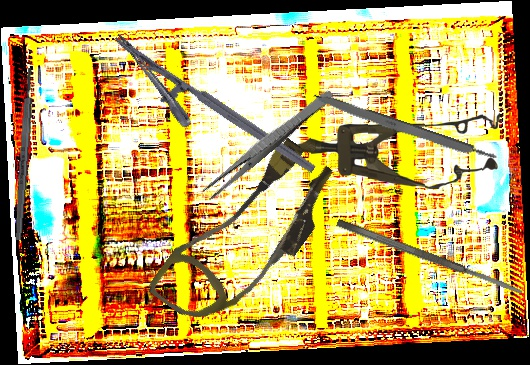Cannula: (145, 122, 349, 349)
Dressing Forceps: (200, 84, 336, 203)
Needle Holder: (94, 31, 318, 202)
Scalpel Handle: (311, 90, 498, 167), (13, 67, 35, 241)
Spatula Surgical: (335, 217, 524, 298)
Speculum: (293, 109, 500, 190)
